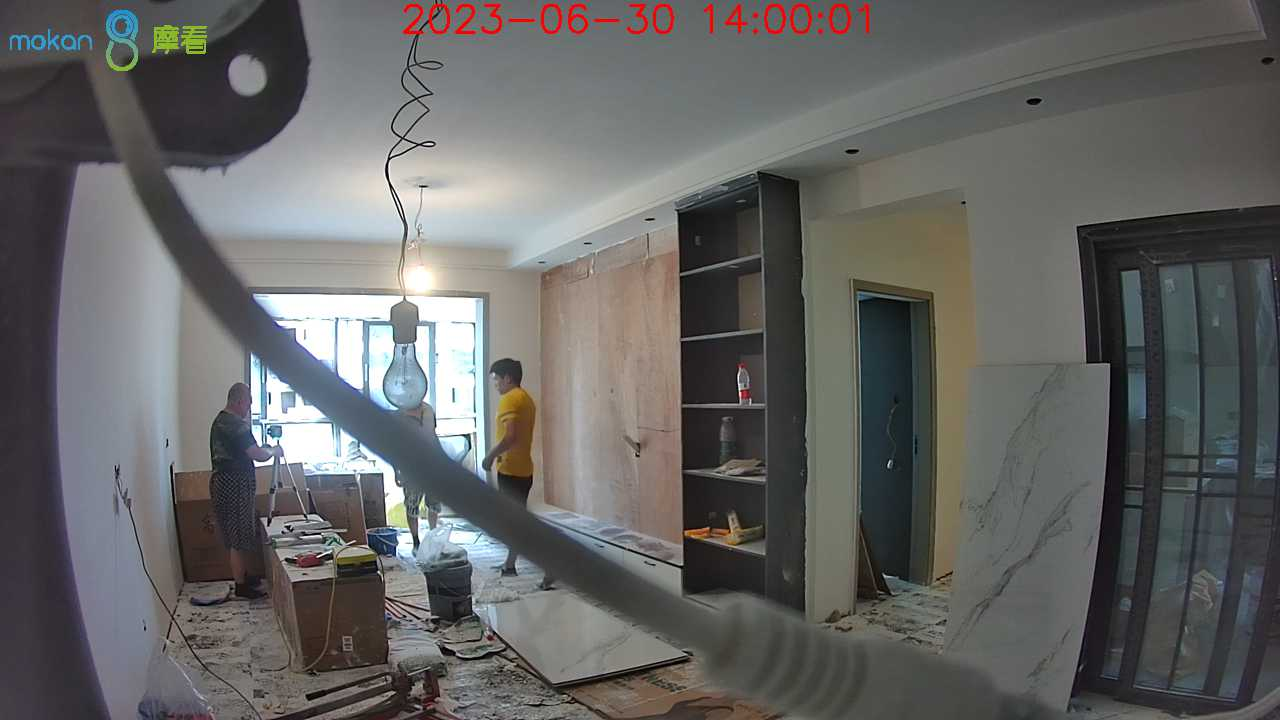people: (481, 358, 563, 591), (205, 380, 271, 603), (391, 382, 450, 544)
window: (249, 291, 486, 532)
